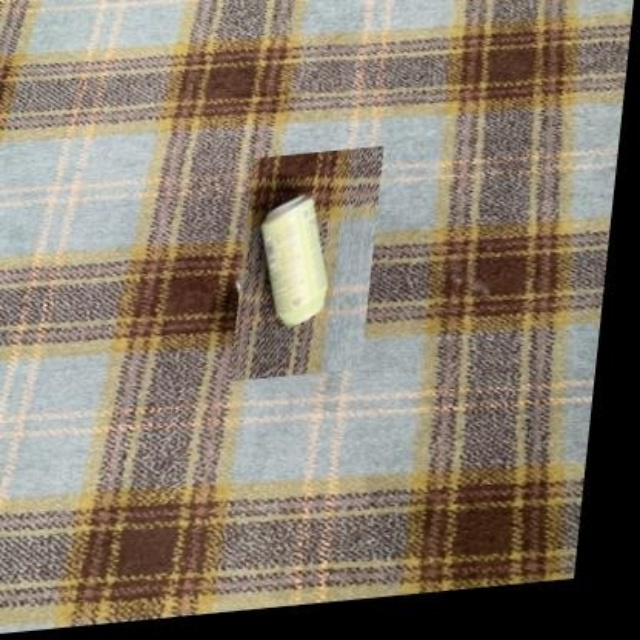trash: (262, 195, 326, 325)
